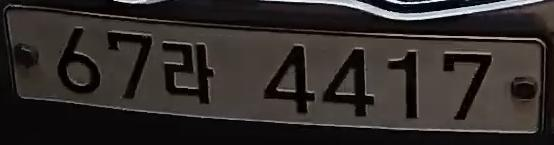1: (382, 45, 434, 120)
4: (259, 39, 321, 115), (322, 42, 382, 119)
6: (54, 24, 106, 97)
7: (434, 44, 497, 124), (103, 25, 157, 101)
라: (155, 34, 220, 107)
